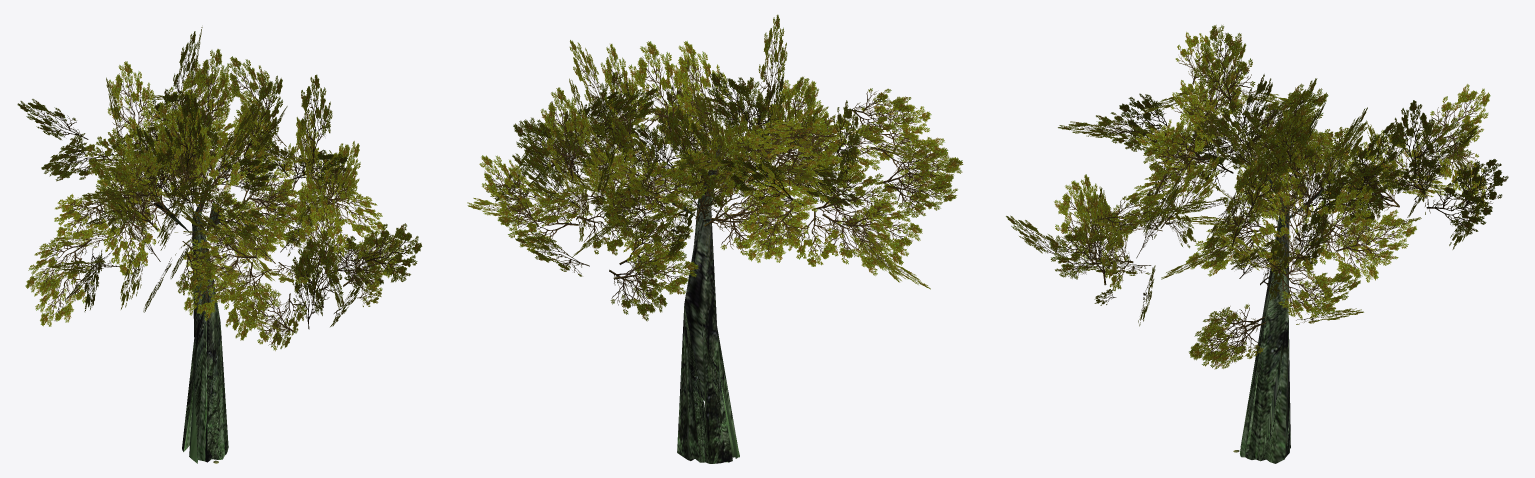
Rendered from big_tree2_lod1.fbx.
3 views of the same model, side by side, from view 1: azimuth 30°, elevation 25°; view 2: azimuth 150°, elevation 25°; view 3: azimuth 270°, elevation 25° (orthographic). The views are drawn at different scales.
Parts seen in each view (by area): view 1: Plane.001; view 2: Plane.001; view 3: Plane.001.
Part boxes in pixels (bbox=[...]): Plane.001: bbox=[17, 27, 422, 463]; Plane.001: bbox=[467, 14, 963, 463]; Plane.001: bbox=[1006, 25, 1508, 463].
Bounding box in the file's own units: 3661 × 3657 × 4094.
Materials: 5 (5 with a texture image).
